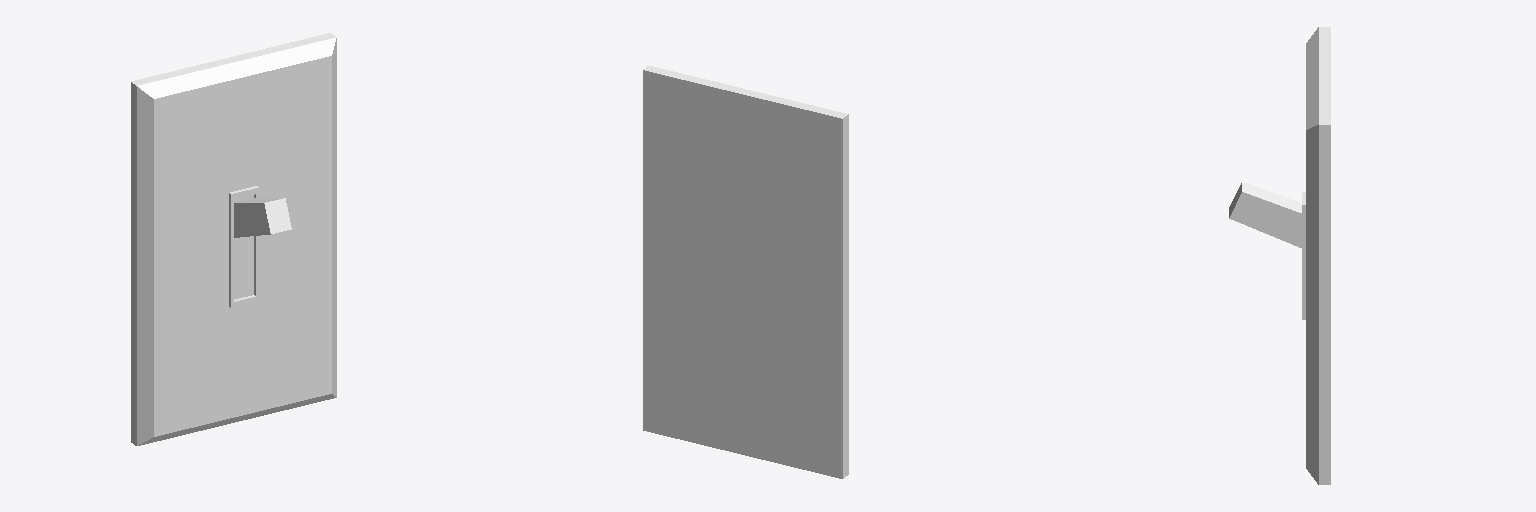
File: LightSwitch.obj
3 renders of one model, left to right at view 1: azimuth 30°, elevation 25°; view 2: azimuth 150°, elevation 25°; view 3: azimuth 270°, elevation 25°, orthographic.
Visible parts, largest first — view 1: LightSwitch1:pPlane1; view 2: LightSwitch1:pPlane1; view 3: LightSwitch1:pPlane1.
Part boxes in pixels (x1,y1,x2,y2): LightSwitch1:pPlane1: (131, 33, 336, 445); LightSwitch1:pPlane1: (643, 66, 848, 478); LightSwitch1:pPlane1: (1229, 27, 1330, 484).
Bounding box in the file's own units: 0.0943 × 0.1624 × 0.0416.